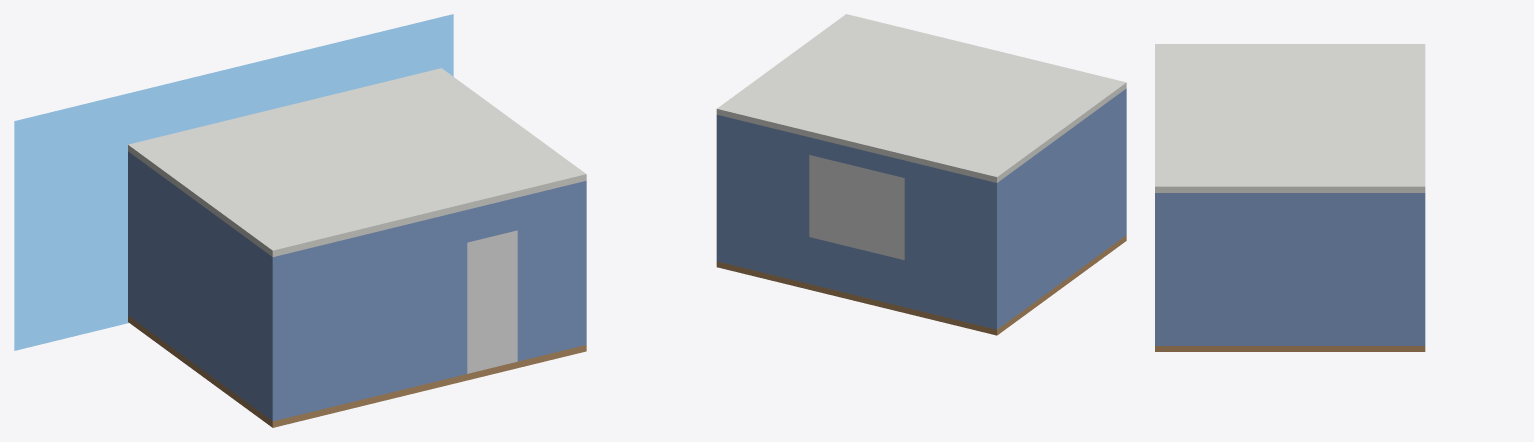
File: room_kid_room_10_scene.glb
3 views of the same model, side by side, from view 1: azimuth 30°, elevation 25°; view 2: azimuth 150°, elevation 25°; view 3: azimuth 270°, elevation 25° (orthographic). The views are drawn at different scales.
Visible parts, largest first — view 1: ceiling_slab, sky_card, wall_s_left, wall_w, wall_s_above, wall_s_right, door_s, floor_slab; view 2: ceiling_slab, wall_w, wall_n_below, wall_n_left, window_n, wall_n_right, wall_n_above, floor_slab; view 3: ceiling_slab, wall_e, floor_slab, wall_s_right, wall_n_right, wall_n_below.
Part boxes in pixels (x1,y1,x2,y2): ceiling_slab: (128, 68, 586, 256); sky_card: (14, 14, 453, 350); wall_s_left: (269, 243, 467, 421); wall_w: (131, 154, 269, 418); wall_s_above: (269, 180, 586, 289); wall_s_right: (517, 213, 586, 361); door_s: (467, 230, 517, 373); floor_slab: (128, 315, 586, 427); ceiling_slab: (716, 14, 1126, 182); wall_w: (1000, 91, 1123, 326); wall_n_below: (716, 214, 1000, 329); wall_n_left: (904, 178, 1000, 282); window_n: (809, 155, 904, 259); wall_n_right: (716, 132, 809, 236); wall_n_above: (716, 115, 1000, 200); floor_slab: (716, 235, 1126, 335); ceiling_slab: (1155, 44, 1425, 192); wall_e: (1162, 193, 1418, 345); floor_slab: (1155, 346, 1425, 351); wall_s_right: (1155, 223, 1161, 345); wall_n_right: (1418, 211, 1425, 296); wall_n_below: (1418, 297, 1425, 345).
Size of what is drawn, in the model's own units: 700 by 350 by 540.
